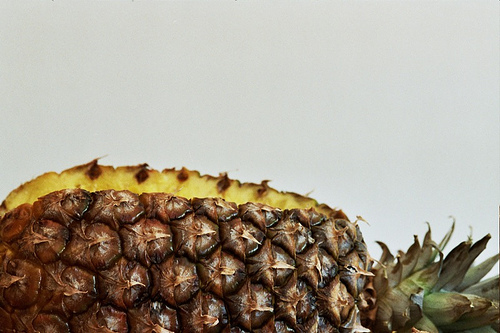pineapple: (2, 159, 499, 332)
